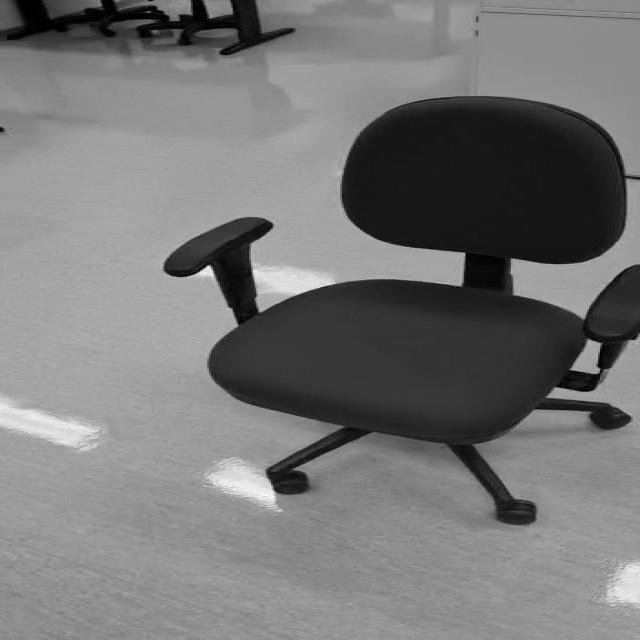cadeira-azul: (164, 95, 640, 524)
